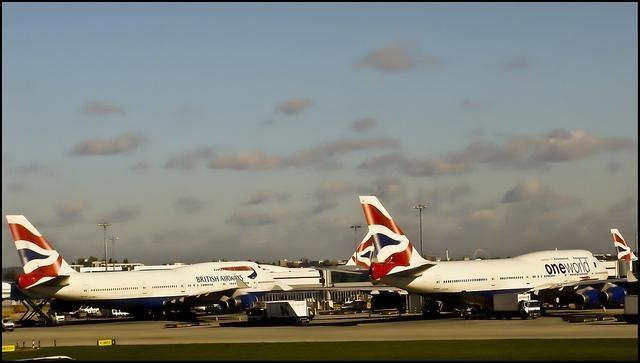truck: (246, 300, 310, 326), (494, 293, 540, 322)
